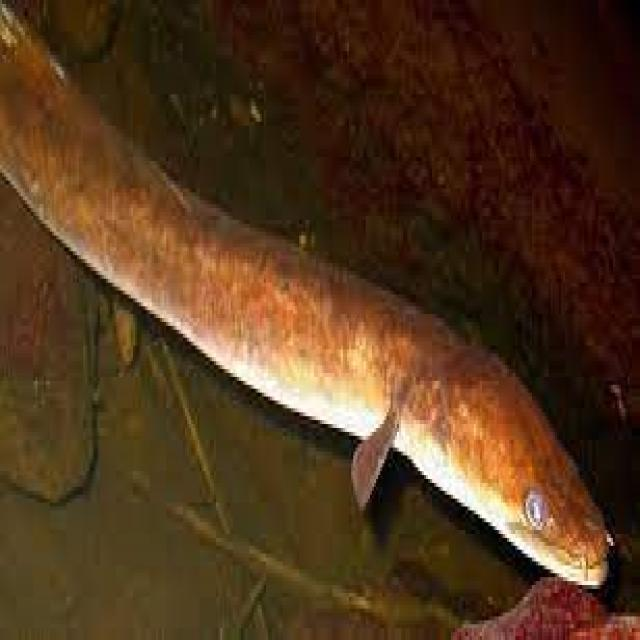Freshwater-Eel: (0, 5, 623, 595)
